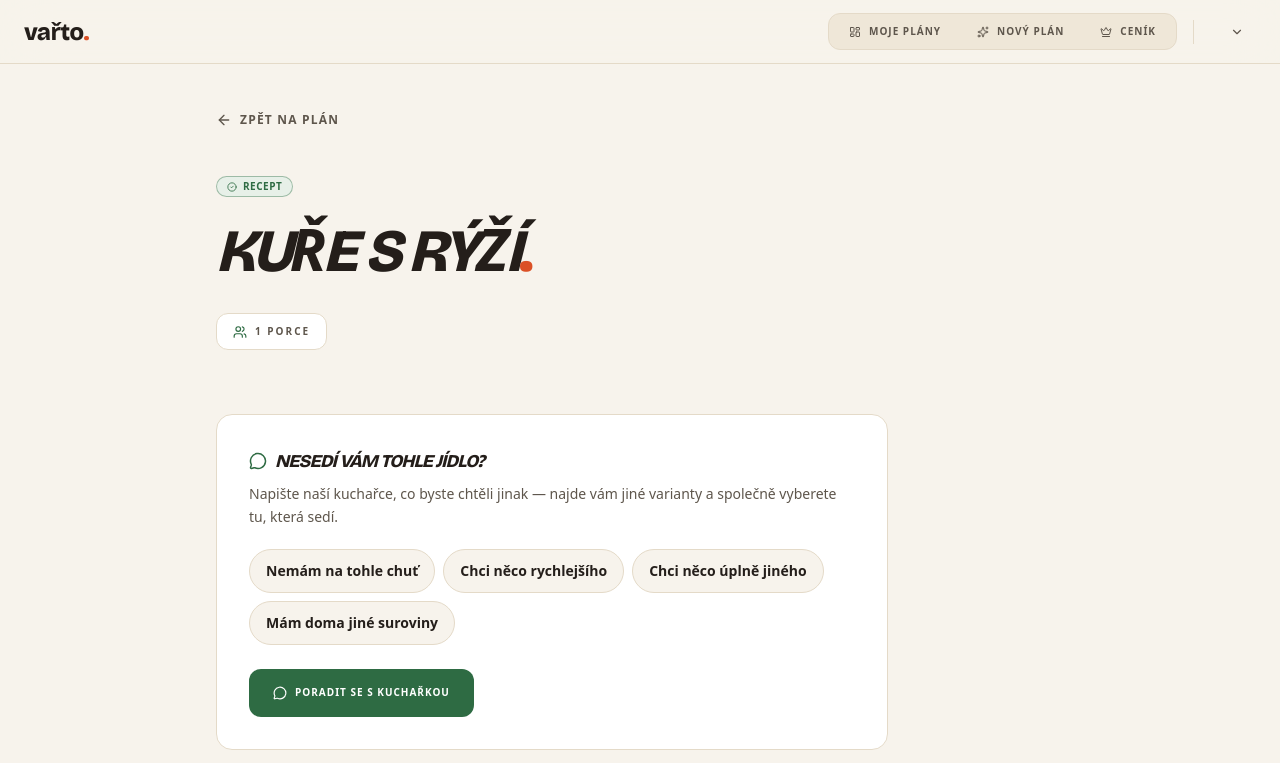
Test: RecipePage refine chat integration › an accepted swap updates caches and closes the chat
Click the button "Poradit se s kuchařkou".
click(361, 692)  # box 249,668 -> 474,716
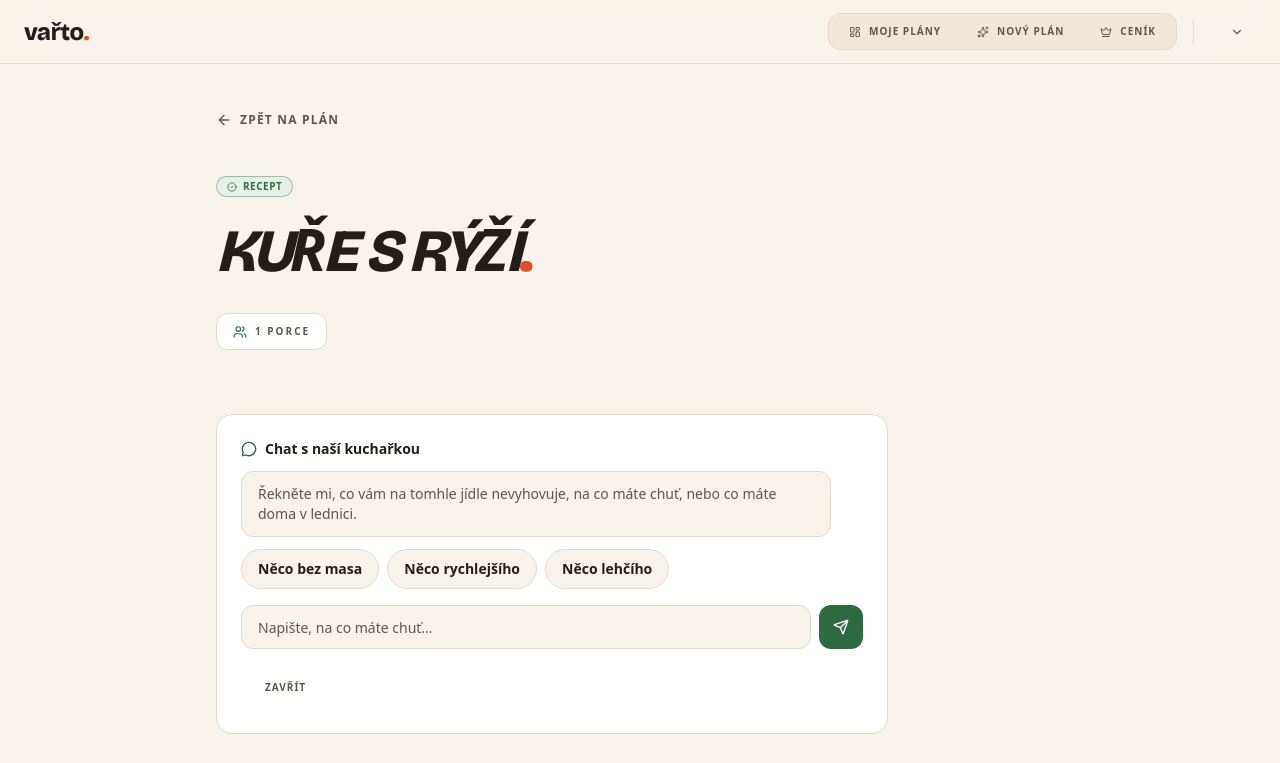
Type "něco s kuřecím" into the field with placeholder "Napište, na co máte chuť…".
click(526, 627); type("něco s kuřecím")  # box 241,605 -> 811,649
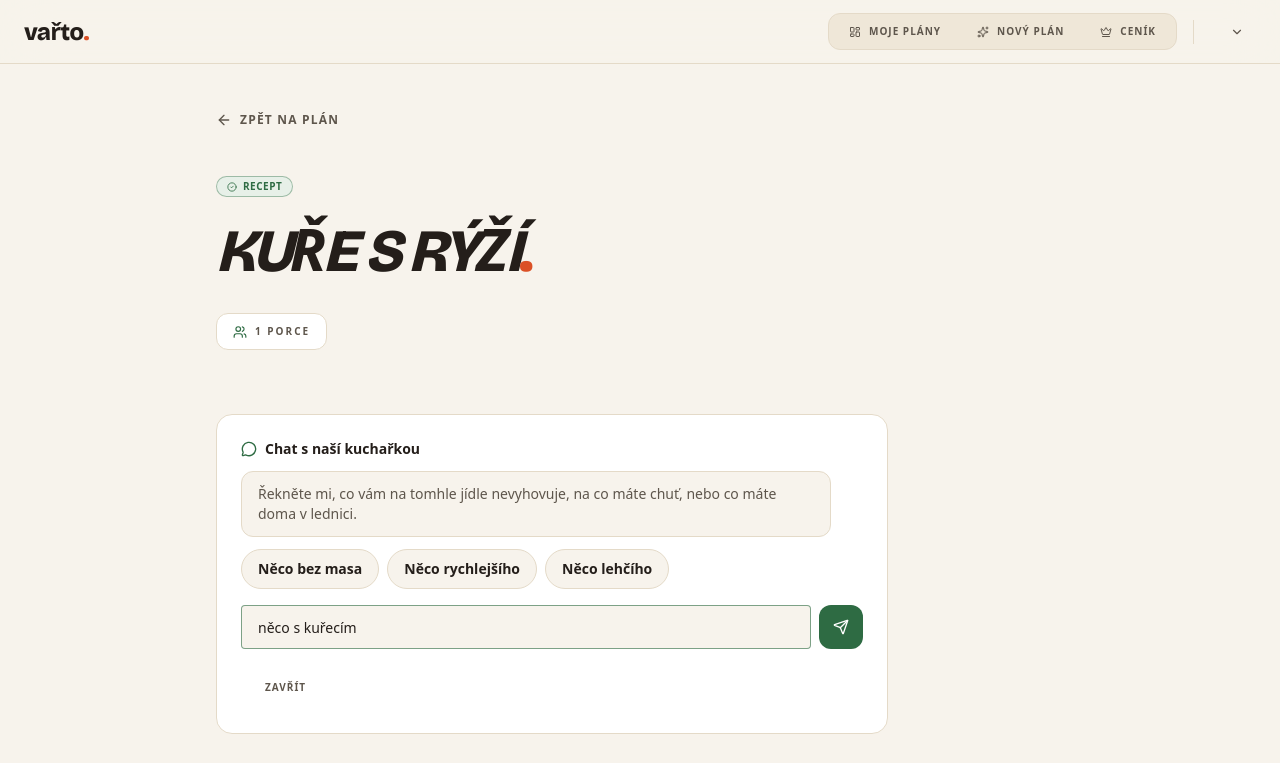
Click the button named "Odeslat".
click(841, 627)  # box 819,605 -> 863,649
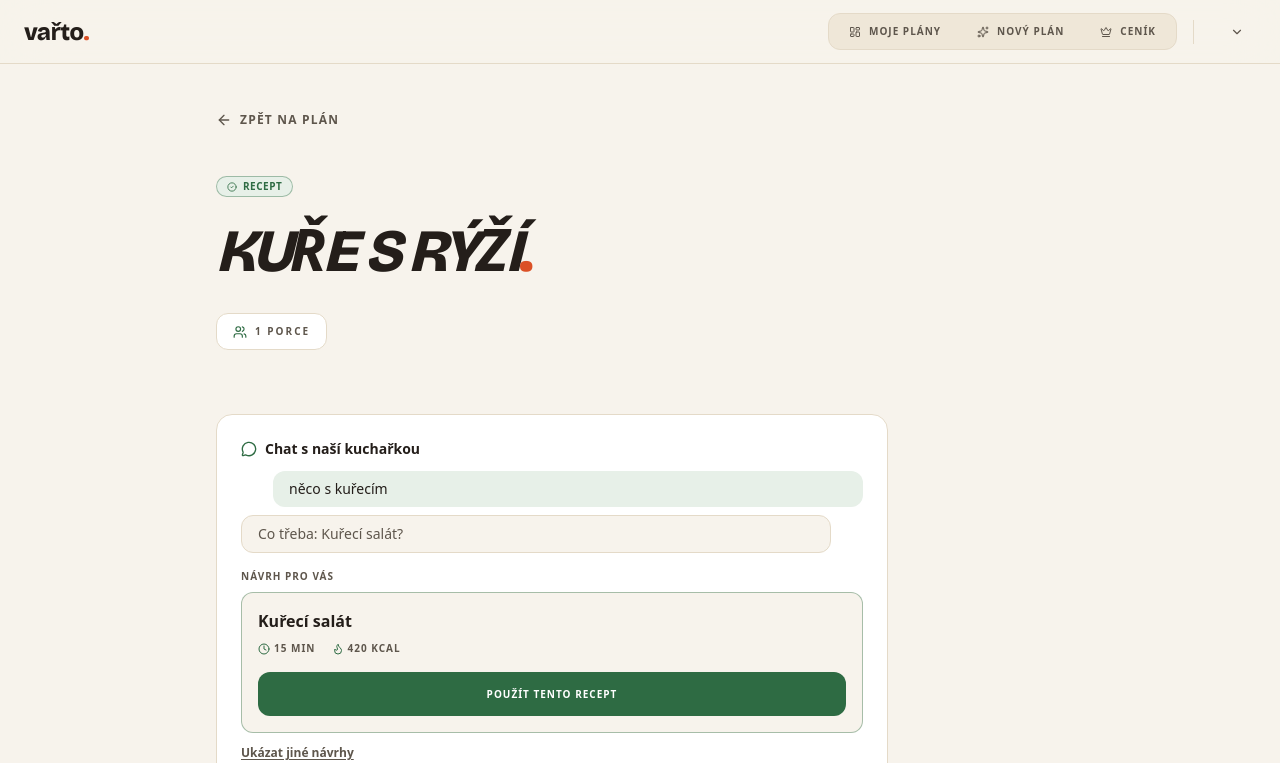
Click the button "Použít tento recept".
click(552, 694)  # box 258,672 -> 846,716
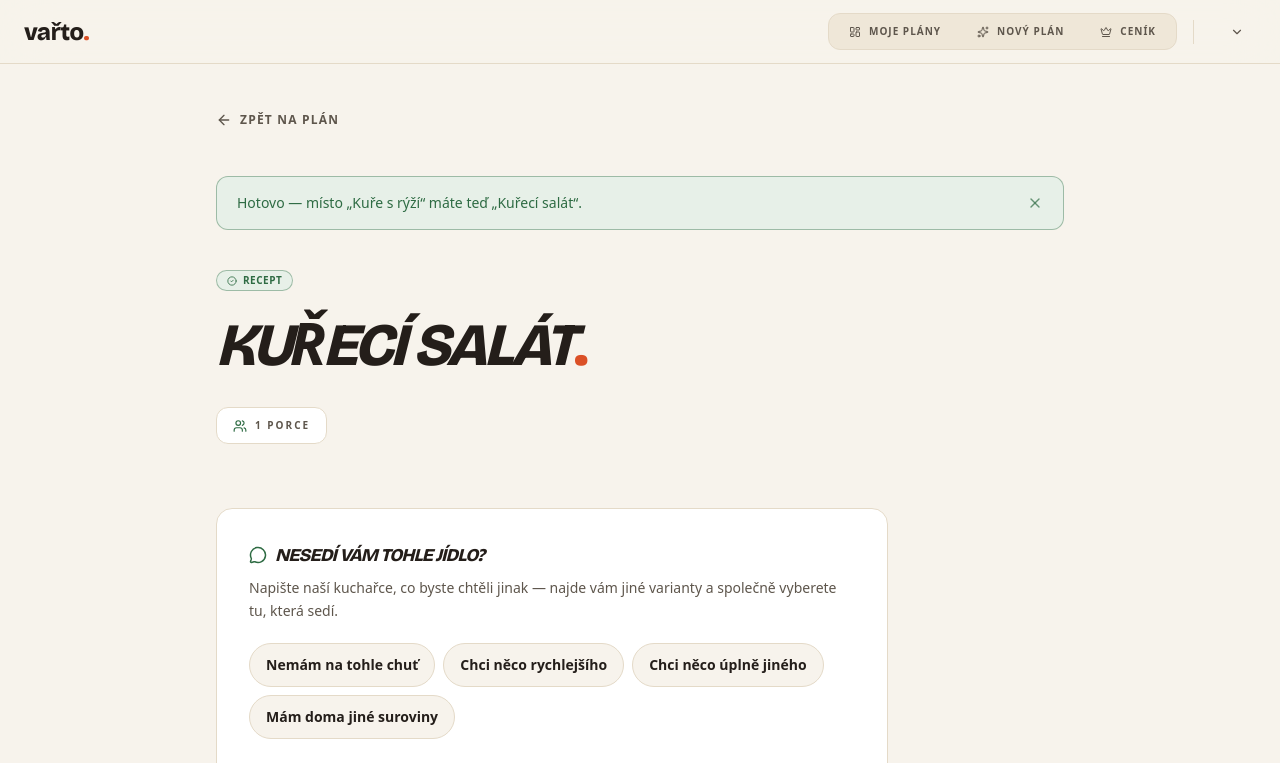
Check: the field with placeholder "Napište, na co máte chuť…" is not shown
Check: the text "Hotovo — místo „Kuře s rýží“ máte teď „Kuřecí salát“." is shown, box 237,193 -> 582,213
